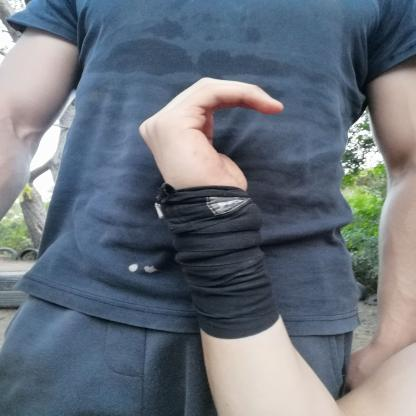HAA: (118, 64, 302, 206)
